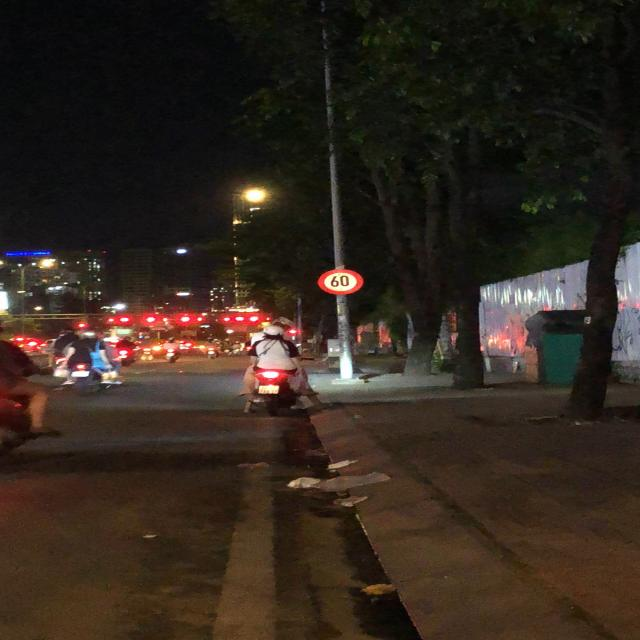Bien bao toc do toi da cho phep: (314, 268, 367, 296)
